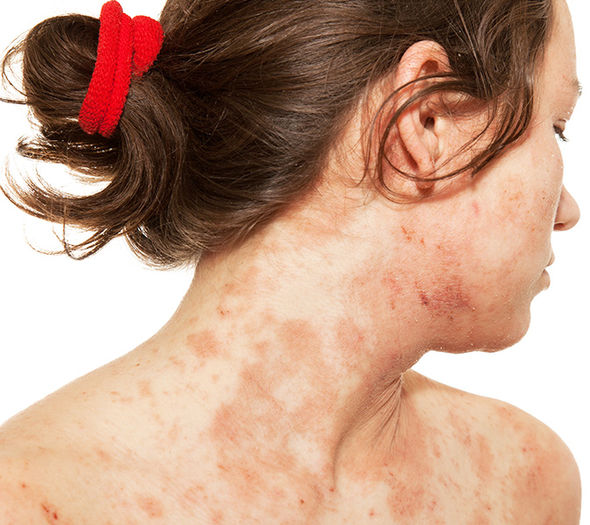Eksim: (187, 307, 519, 525), (361, 210, 531, 349)
